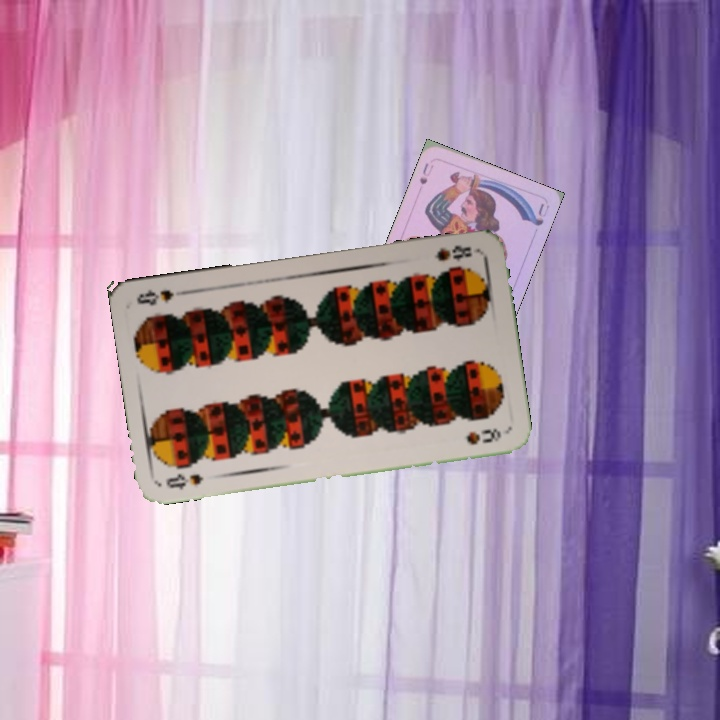S8: (162, 469, 205, 493), (431, 241, 474, 264)
SU: (415, 159, 436, 187)
